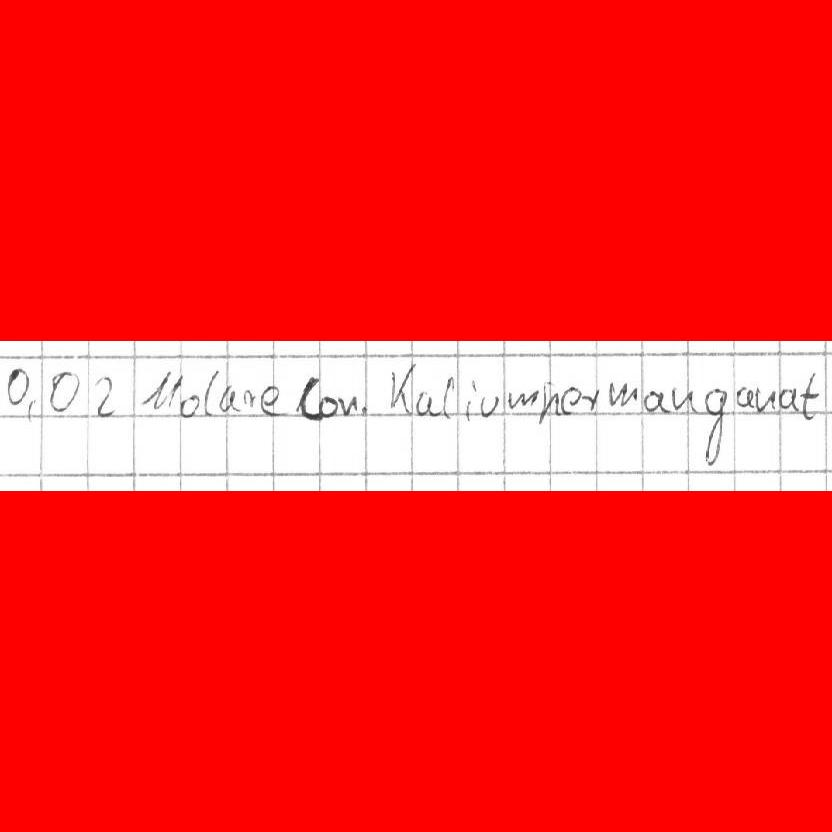Char: (701, 385, 728, 468), (139, 367, 182, 412), (46, 369, 84, 415), (387, 363, 415, 415), (797, 369, 820, 420), (91, 374, 115, 419), (537, 381, 559, 429), (295, 373, 318, 418), (6, 366, 29, 407), (610, 379, 640, 407), (671, 386, 695, 416), (460, 375, 476, 420), (203, 369, 219, 412), (259, 384, 279, 418), (643, 387, 665, 417), (441, 374, 456, 417), (776, 385, 795, 416), (734, 384, 755, 411), (179, 392, 200, 419), (756, 384, 776, 412), (478, 393, 499, 419), (510, 388, 536, 409), (339, 393, 361, 416), (416, 391, 436, 416), (563, 386, 583, 411), (317, 395, 339, 417), (23, 394, 38, 422), (239, 387, 256, 411), (219, 389, 236, 413), (585, 386, 601, 409)
